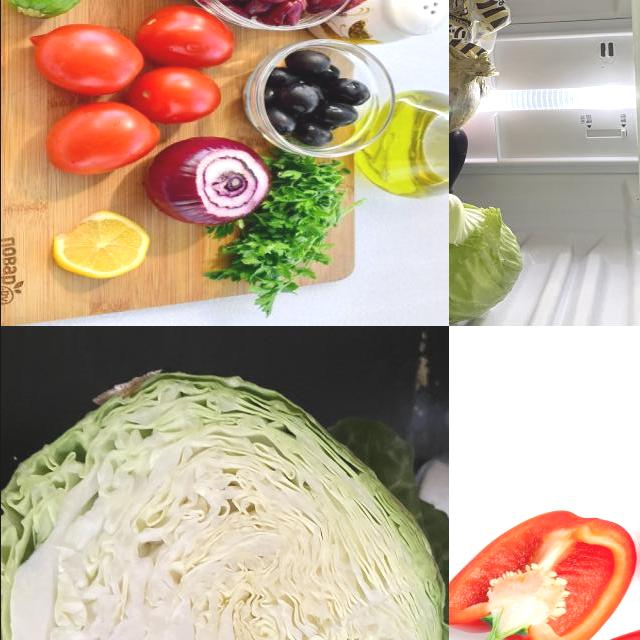cabbage: (1, 359, 449, 640), (449, 180, 521, 327)
eggplant: (449, 129, 470, 196)
onion: (158, 141, 264, 227), (449, 37, 496, 139)
tomato: (49, 102, 153, 176), (36, 27, 136, 92), (146, 8, 234, 64), (137, 70, 231, 121)
